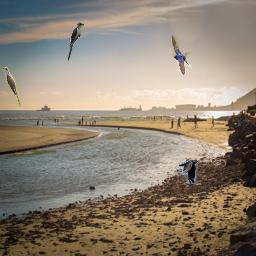Crow: (179, 160, 198, 184)
Cuckoo: (2, 67, 21, 107), (67, 22, 84, 62)
Swallow: (172, 35, 192, 75)
